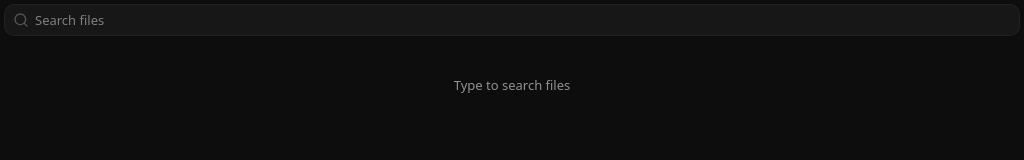
it: FilesView search › searches once after typing stops, basename first
Expected: the text "Type to search files" is shown, [454, 76, 570, 94]
Type "gitts" into the dropdown labelled "Search files".
click(524, 20); type("gitts")  # box [29, 11, 1019, 29]
Wait 250 ms
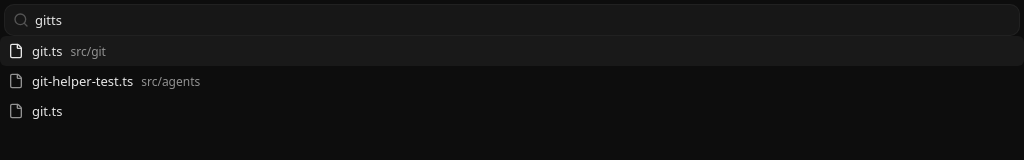
Expected: the options read "git.tssrc/git", "git-helper-test.tssrc/agents", "git.ts", in this order, [0, 36, 1023, 66]; [8, 72, 200, 90]; [8, 102, 62, 120]
